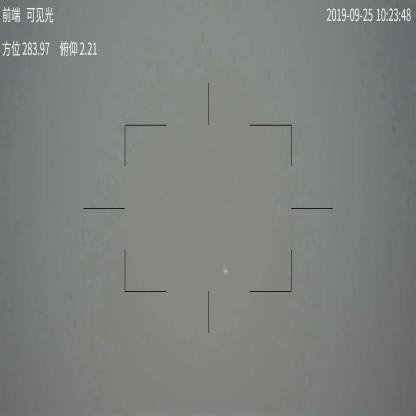uav: (223, 267, 228, 275)
